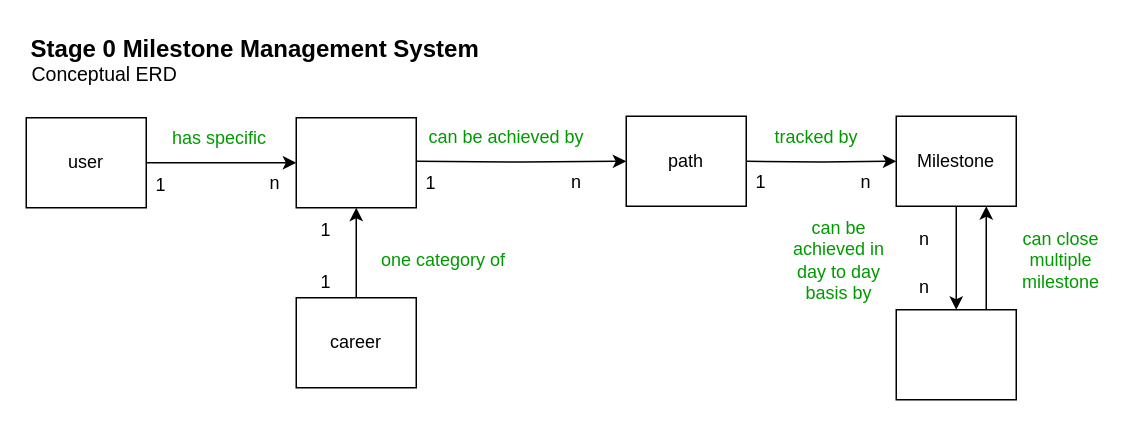
This 1148x426 diagram has some shape labels left out. Each missing label, with the centre of its shape:
"goal" belongs at point 355,162.
"task" belongs at point 955,354.
